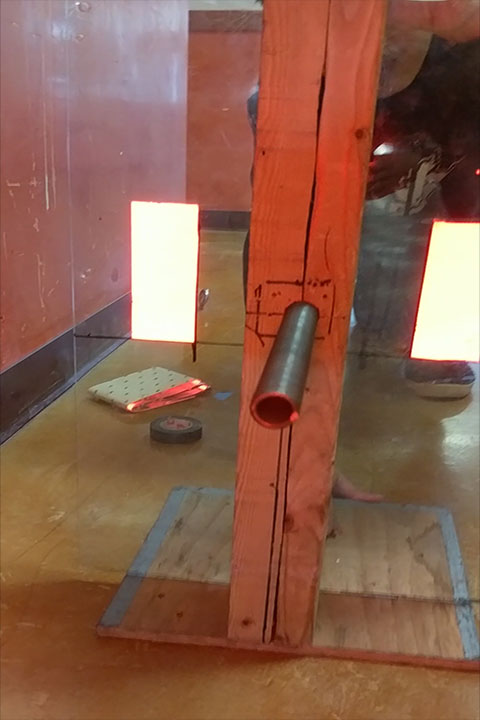gear: (410, 219, 480, 362), (130, 201, 198, 345)
